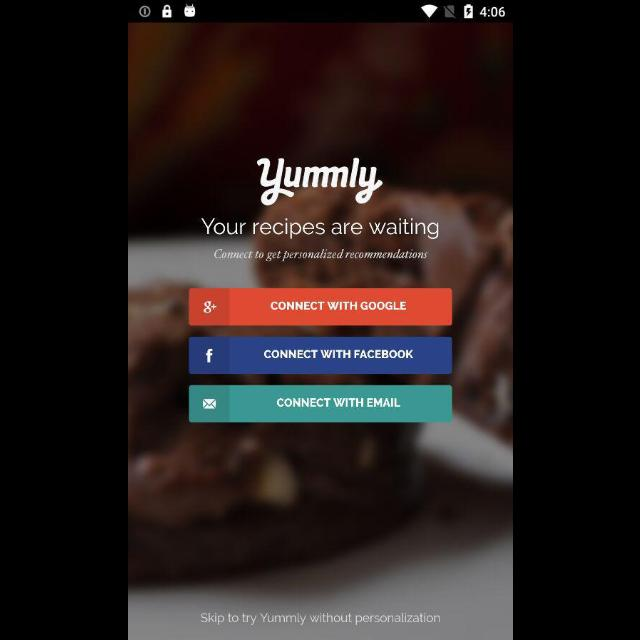backgroundimage: (128, 24, 512, 640)
image: (256, 158, 382, 206)
text: (200, 218, 438, 240), (200, 612, 440, 626), (213, 248, 427, 262)
textbutton: (188, 288, 452, 326), (188, 386, 452, 422), (188, 338, 452, 374)
uppertaskbar: (128, 1, 512, 23)
